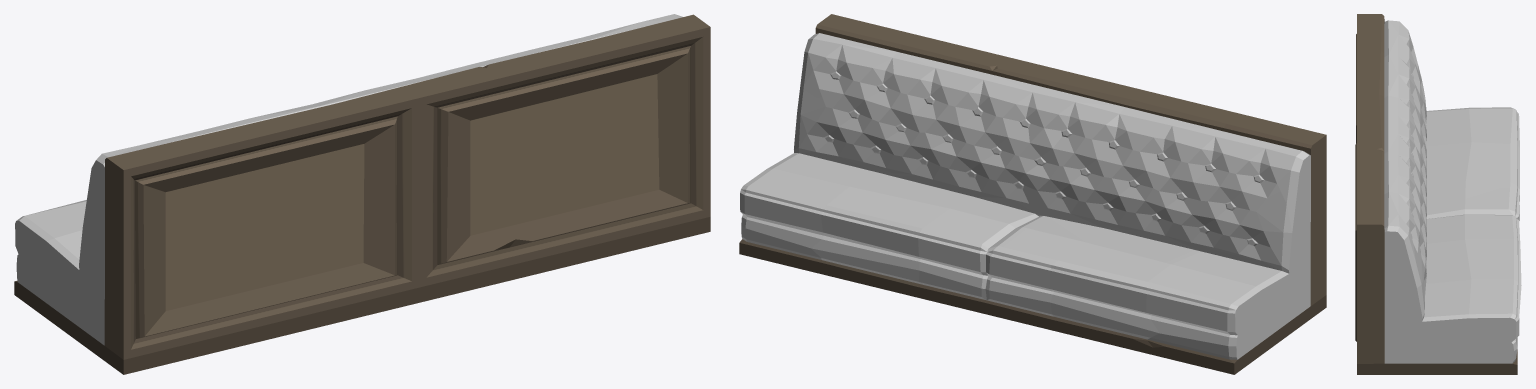
Rendered from Prop_Sofa_01_Straight_01.fbx.
The picture shows the model from 3 angles, left to right: view 1: azimuth 30°, elevation 25°; view 2: azimuth 150°, elevation 25°; view 3: azimuth 270°, elevation 25°; orthographic projection. The views are drawn at different scales.
Parts seen in each view (by area): view 1: SM_Prop_Sofa_01_Straight_01; view 2: SM_Prop_Sofa_01_Straight_01; view 3: SM_Prop_Sofa_01_Straight_01.
Boxes of the visible parts, bbox=[...] form: SM_Prop_Sofa_01_Straight_01: bbox=[14, 14, 710, 374]; SM_Prop_Sofa_01_Straight_01: bbox=[739, 14, 1326, 374]; SM_Prop_Sofa_01_Straight_01: bbox=[1355, 14, 1521, 374].
Size of the model in its own units: 300 by 100 by 100.
